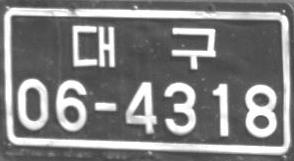0: (16, 77, 49, 131)
1: (208, 82, 238, 136)
3: (163, 82, 197, 135)
4: (125, 81, 156, 133)
6: (55, 78, 87, 132)
8: (244, 83, 277, 138)
대구_D: (71, 24, 216, 69)
